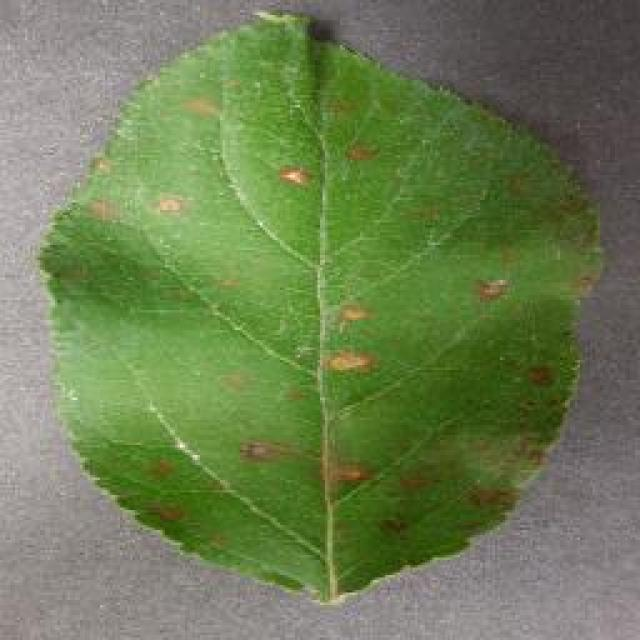apple scab disease: (35, 7, 605, 605)
